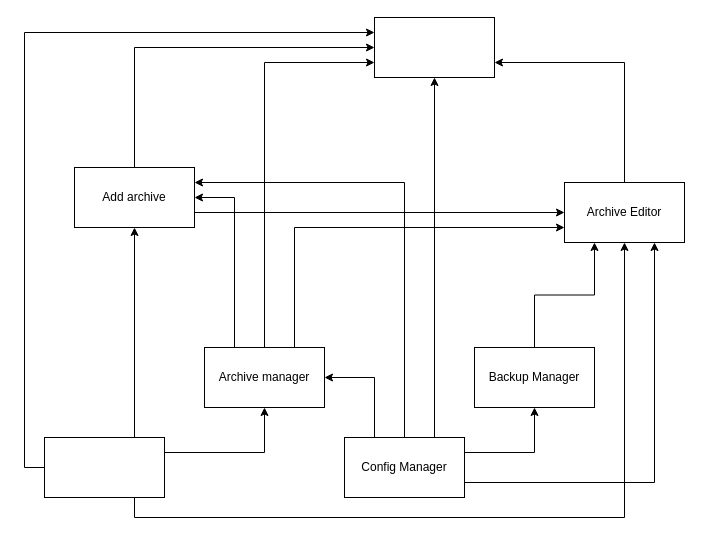
Some shapes in this 702 by 543 pixel diagram are drawn without their labels. Here are the shapes that lost their labels. From the top down, the centre of each, then its label:
At point (434, 47): "Main".
At point (104, 467): "Cli UI".
